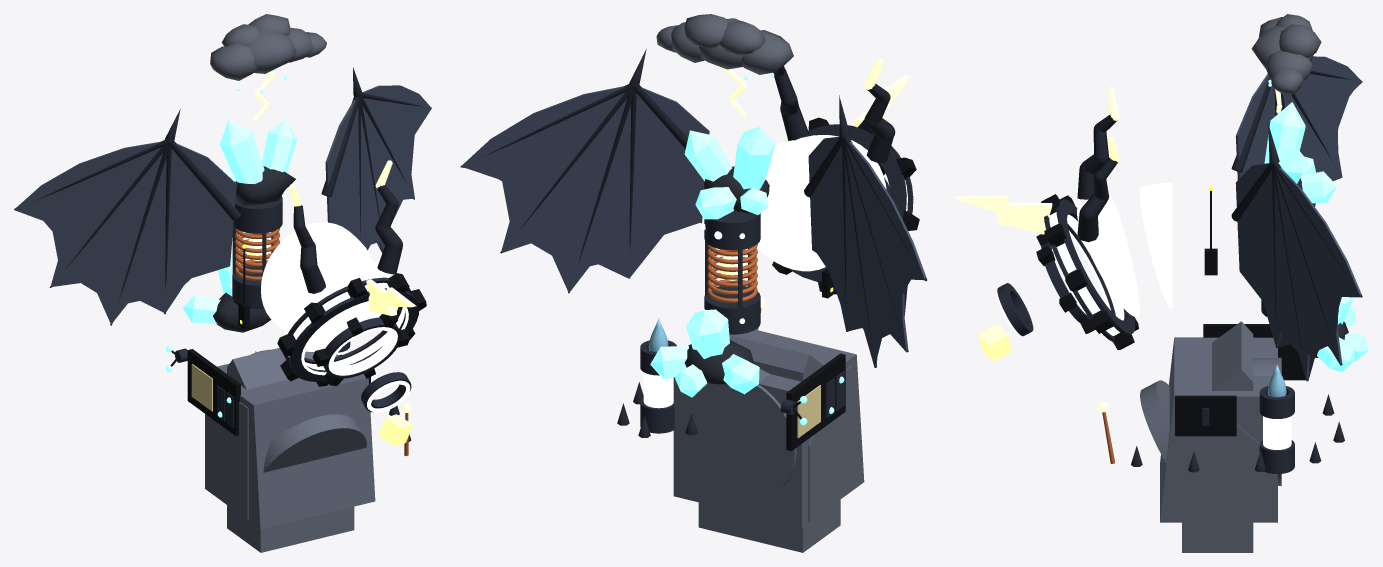
Rendered from StormDrakeMine_Roblox.fbx.
3 renders of one model, left to right at view 1: azimuth 30°, elevation 25°; view 2: azimuth 150°, elevation 25°; view 3: azimuth 270°, elevation 25°, orthographic. The views are drawn at different scales.
Visible parts, largest first — view 1: WingMembrane, Stone, Neon, StormSteel, Black, WingBone, StormCloud, Crystal, Horn, Rock, Lightning, CopperCoil (+2 smaller); view 2: WingMembrane, Stone, Crystal, StormSteel, Neon, WingBone, StormCloud, Horn, Black, CopperCoil, Rock, Lightning (+1 smaller); view 3: WingMembrane, Stone, Neon, Black, StormSteel, Crystal, Horn, StormCloud, WingBone, Lightning, Ore.
Part boxes in pixels (x1,y1,x2,y2): WingMembrane: (14, 85, 431, 325); Stone: (205, 348, 375, 552); Neon: (230, 222, 410, 412); StormSteel: (175, 196, 419, 428); Black: (170, 248, 426, 436); WingBone: (14, 92, 422, 325); StormCloud: (210, 14, 326, 80); Crystal: (182, 76, 297, 323); Horn: (165, 67, 411, 441); Rock: (213, 166, 295, 332); Lightning: (246, 71, 416, 412); CopperCoil: (235, 228, 408, 455); WingMembrane: (461, 86, 927, 367); Stone: (673, 329, 864, 552); Crystal: (650, 73, 775, 397); StormSteel: (640, 124, 913, 433); Neon: (643, 135, 907, 408); WingBone: (460, 84, 927, 367); StormCloud: (656, 14, 793, 74); Horn: (617, 49, 895, 437); Black: (772, 117, 919, 451); CopperCoil: (707, 244, 761, 330); Rock: (684, 166, 769, 384); Lightning: (719, 32, 910, 308); WingMembrane: (1235, 56, 1362, 380); Stone: (1140, 321, 1281, 552); Neon: (996, 183, 1291, 449); Black: (1036, 191, 1305, 436); StormSteel: (997, 199, 1314, 474); Crystal: (1264, 79, 1368, 371); Horn: (1077, 114, 1344, 472); StormCloud: (1251, 14, 1321, 94); WingBone: (1231, 70, 1362, 381); Lightning: (956, 86, 1282, 412); Ore: (978, 323, 1011, 361).
Size of the model in its own units: 2144 by 2362 by 1734.
